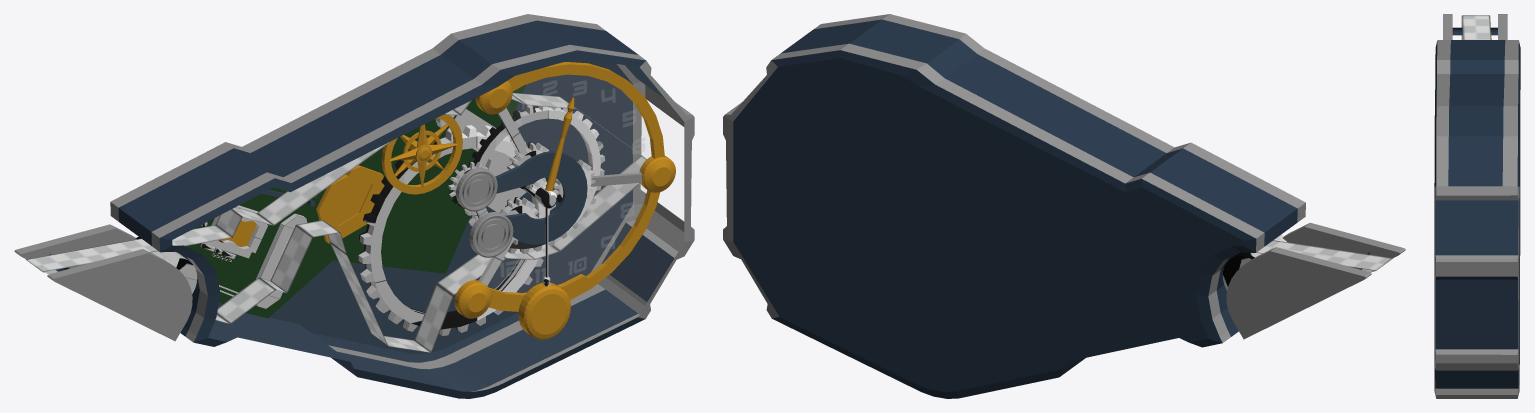
File: correction tape 2.glb
3 renders of one model, left to right at view 1: azimuth 30°, elevation 25°; view 2: azimuth 150°, elevation 25°; view 3: azimuth 270°, elevation 25°, orthographic. The views are drawn at different scales.
Visible parts, largest first — view 1: body, tape, Plane, Cube.022, Cylinder.025, Cylinder.021, Cylinder.016, Cylinder.017, enginge, Cylinder.028, clock numbers, Cube.023 (+11 smaller); view 2: body, Cube.023, Cube.022, tape, Cylinder.039; view 3: body, tape, Cube.022, Cube.023, Cylinder.038.
Part boxes in pixels (<box>): body: <box>110,14,694,398</box>; tape: <box>26,92,646,352</box>; Plane: <box>185,84,526,318</box>; Cube.022: <box>47,249,192,341</box>; Cylinder.025: <box>358,125,555,335</box>; Cylinder.021: <box>489,62,664,311</box>; Cylinder.016: <box>495,151,587,244</box>; Cylinder.017: <box>464,105,605,253</box>; enginge: <box>316,165,384,243</box>; Cylinder.028: <box>518,282,570,339</box>; clock numbers: <box>498,80,645,283</box>; Cube.023: <box>14,224,136,268</box>; body: <box>723,14,1305,398</box>; Cube.023: <box>1226,247,1371,339</box>; Cube.022: <box>1282,222,1405,258</box>; tape: <box>1256,240,1392,272</box>; Cylinder.039: <box>1222,234,1286,290</box>; body: <box>1434,40,1520,398</box>; tape: <box>1461,15,1491,39</box>; Cube.022: <box>1443,14,1452,39</box>; Cube.023: <box>1498,14,1507,39</box>; Cylinder.038: <box>1452,27,1497,35</box>.
Size of the model in its own units: 7.24 by 3.51 by 1.03.
8 materials, 3 textured.
